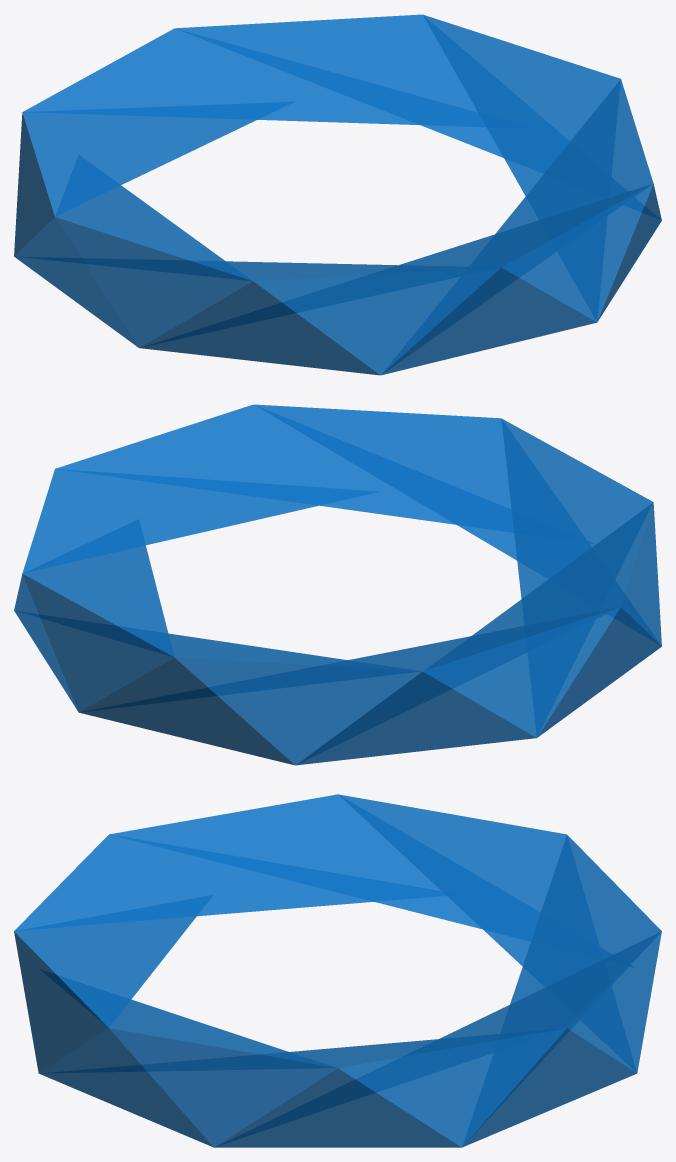
File: fractalantioctagonaliristoroid0.glb
3 views of the same model, one above another, from view 1: azimuth 30°, elevation 25°; view 2: azimuth 150°, elevation 25°; view 3: azimuth 270°, elevation 25° (orthographic).
Size of the model in its own units: 10.04 by 1.54 by 10.04.
